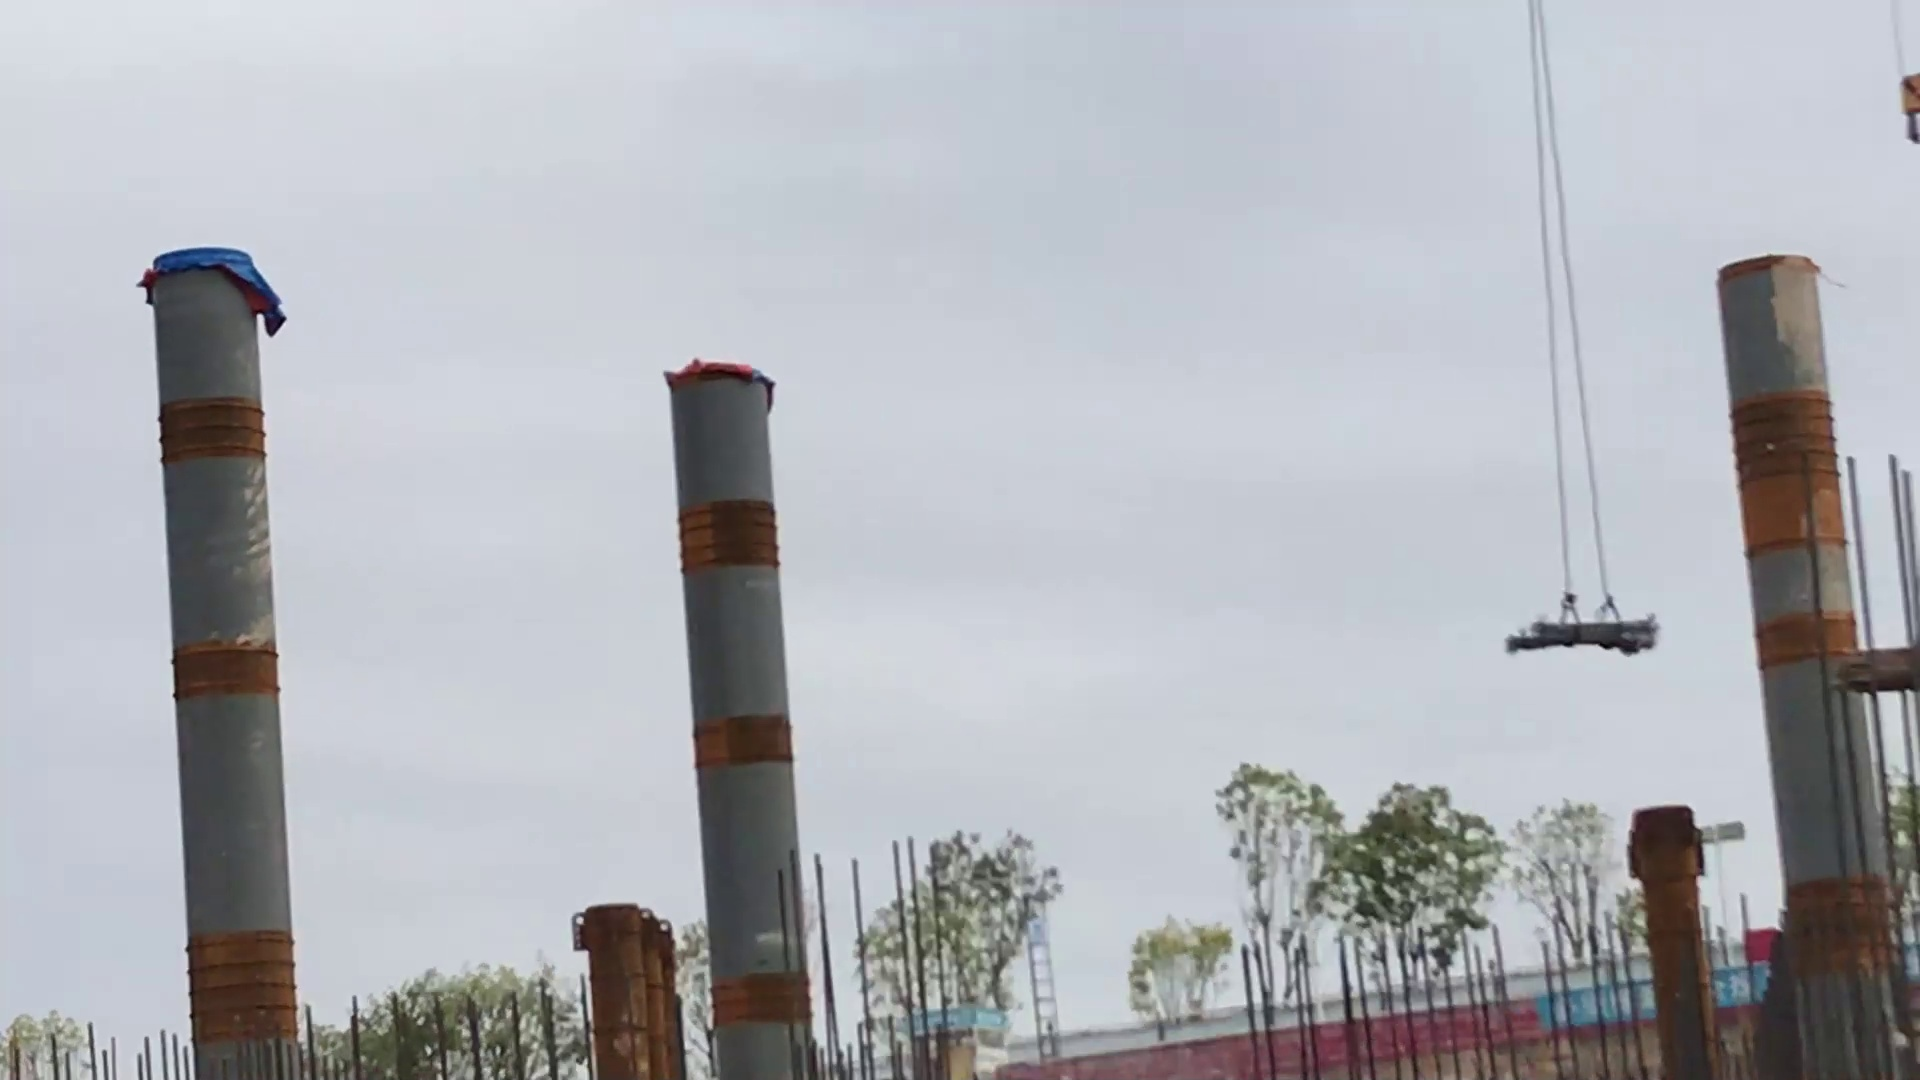rebar: (1495, 609, 1672, 659)
